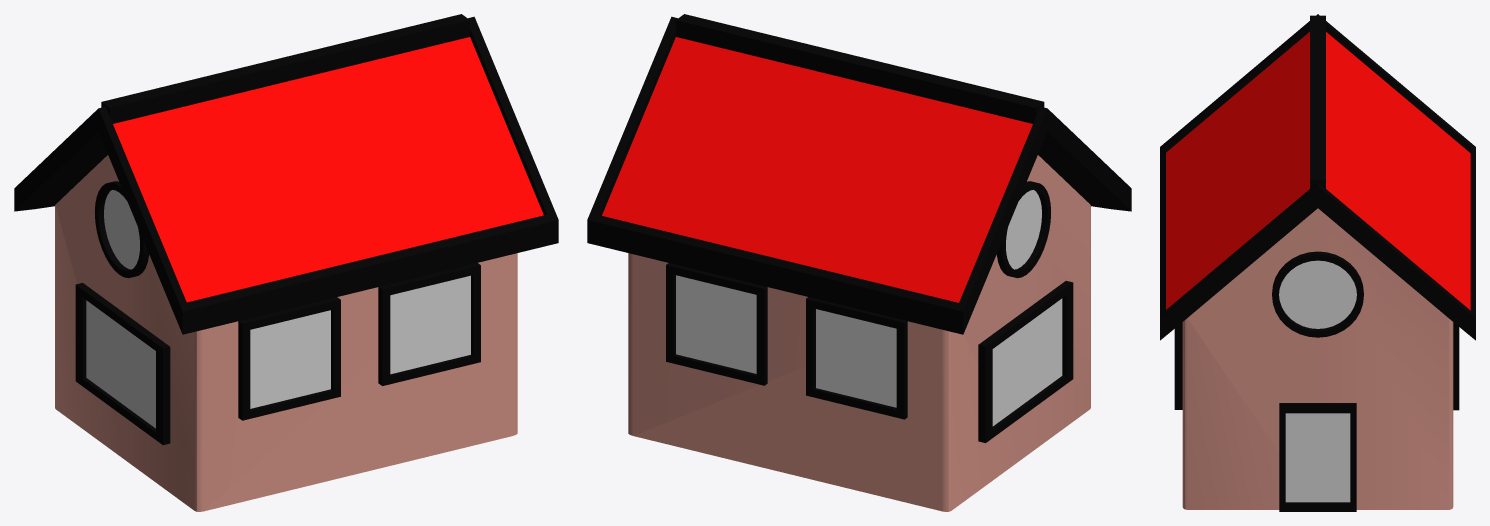
Rendered from HouseBlockout2.fbx.
3 renders of one model, left to right at view 1: azimuth 30°, elevation 25°; view 2: azimuth 150°, elevation 25°; view 3: azimuth 270°, elevation 25°, orthographic. The views are drawn at different scales.
Parts seen in each view (by area): view 1: Cylinder.001; view 2: Cylinder.001; view 3: Cylinder.001.
Boxes of the visible parts, x1,y1,x2,y2 form: Cylinder.001: (14,14,558,511); Cylinder.001: (587,14,1131,511); Cylinder.001: (1160,14,1475,511).
Bounding box in the file's own units: 589 × 539 × 457.
